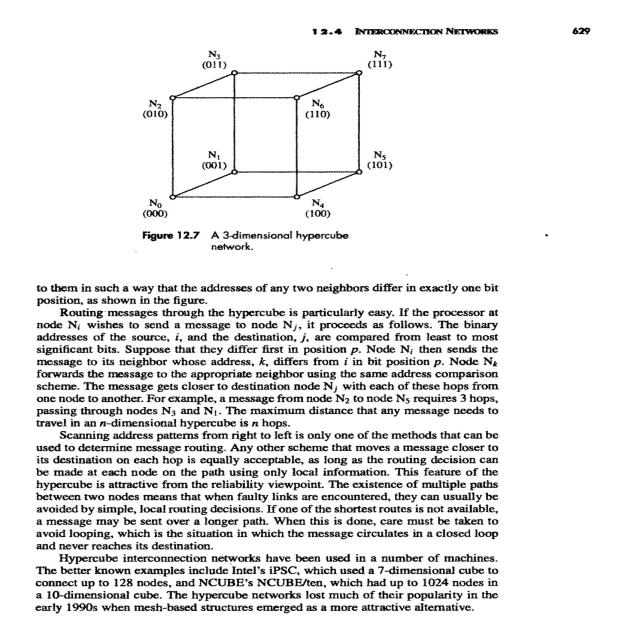diagram: (54, 38, 553, 262)
